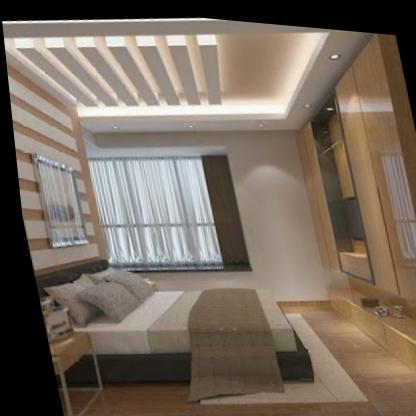Gypsum Board: (0, 0, 416, 173)
